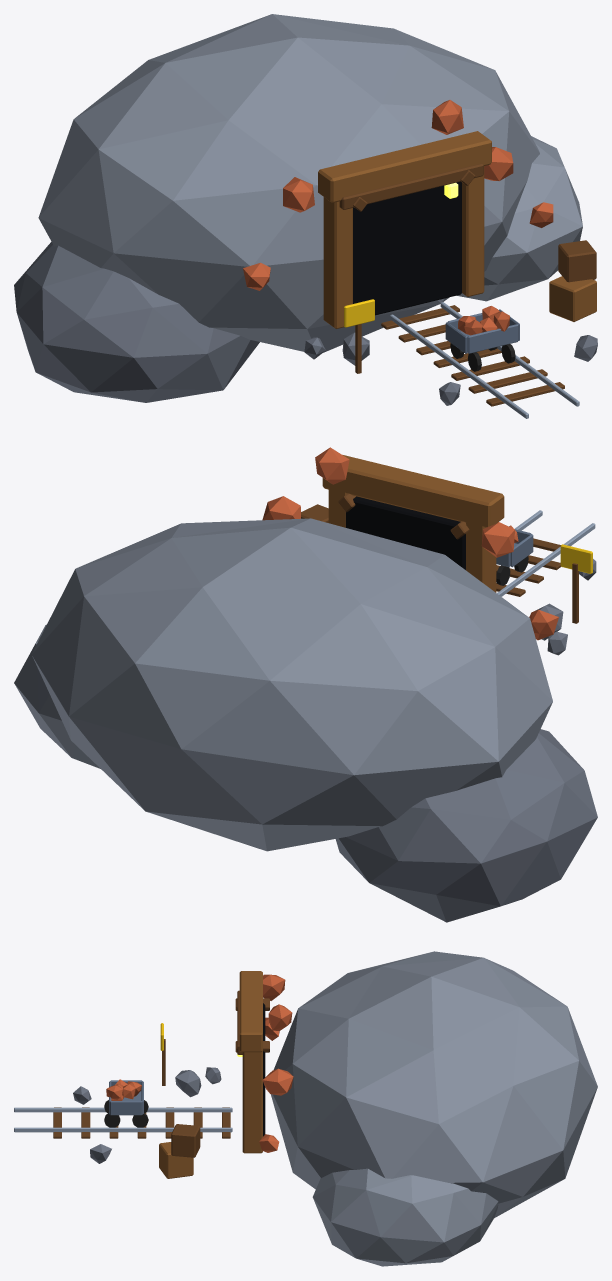
The model's file is mine.glb.
3 views of the same model, one above another, from view 1: azimuth 30°, elevation 25°; view 2: azimuth 150°, elevation 25°; view 3: azimuth 270°, elevation 25° (orthographic). The views are drawn at different scales.
Visible parts, largest first — view 1: g_rock, g_m_6b7280, g_m_8a5a2b, g_m_08090d, g_m_6b4423, g_ore, g_m_94a3b8, g_m_64748b, g_m_facc15, g_m_222; view 2: g_rock, g_m_6b7280, g_m_8a5a2b, g_m_08090d, g_ore, g_m_6b4423, g_m_94a3b8, g_m_facc15, g_m_64748b; view 3: g_rock, g_m_8a5a2b, g_m_6b4423, g_ore, g_m_94a3b8, g_m_6b7280, g_m_64748b, g_m_222.
Boxes of the visible parts, <box> form: g_rock: <box>38,14,582,352</box>; g_m_6b7280: <box>14,242,597,405</box>; g_m_8a5a2b: <box>318,131,596,328</box>; g_m_08090d: <box>353,181,461,315</box>; g_m_6b4423: <box>339,163,596,406</box>; g_ore: <box>243,100,553,335</box>; g_m_94a3b8: <box>390,302,579,418</box>; g_m_64748b: <box>445,309,519,353</box>; g_m_facc15: <box>344,299,374,327</box>; g_m_222: <box>450,343,515,371</box>; g_rock: <box>14,518,552,851</box>; g_m_6b7280: <box>335,559,597,922</box>; g_m_8a5a2b: <box>322,455,504,592</box>; g_m_08090d: <box>345,496,465,569</box>; g_ore: <box>262,447,558,640</box>; g_m_6b4423: <box>301,493,578,623</box>; g_m_94a3b8: <box>497,510,595,596</box>; g_m_facc15: <box>560,544,592,573</box>; g_m_64748b: <box>496,529,533,567</box>; g_rock: <box>270,951,597,1266</box>; g_m_8a5a2b: <box>159,971,262,1178</box>; g_m_6b4423: <box>53,990,269,1157</box>; g_ore: <box>106,974,293,1152</box>; g_m_94a3b8: <box>14,1107,232,1132</box>; g_m_6b7280: <box>73,1067,221,1163</box>; g_m_64748b: <box>109,1080,143,1115</box>; g_m_222: <box>104,1100,148,1127</box>.
Bounding box in the file's own units: 15.78 × 8.77 × 18.71.
